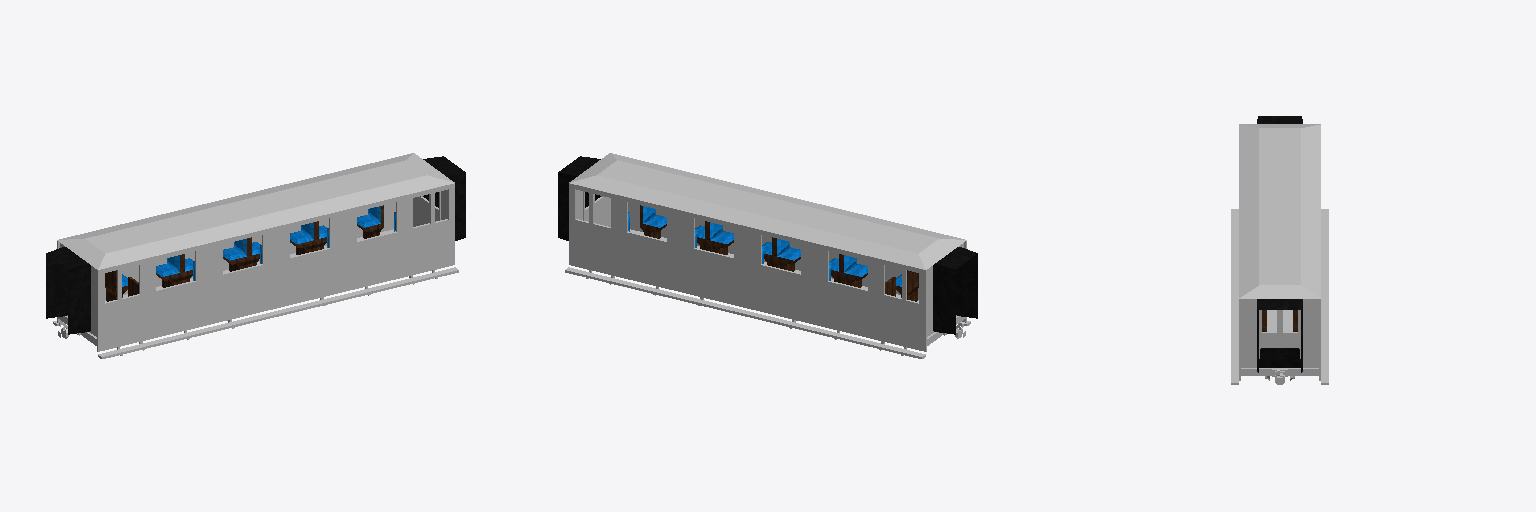
3 renders of one model, left to right at view 1: azimuth 30°, elevation 25°; view 2: azimuth 150°, elevation 25°; view 3: azimuth 270°, elevation 25°, orthographic.
Parts seen in each view (by area): view 1: SHELL_WOOD_ext, SHELL_WOOD_roof, corridor_front, FRAME, SHELL_WOOD_INTERIOR, corridor_rear, DOOR_8_EXTERNAL.001, INTERIOR_bench.003, INTERIOR_bench.005, INTERIOR_bench.001, DOOR_6_EXTERNAL.001, INTERIOR_bench.007; view 2: SHELL_WOOD_ext, SHELL_WOOD_roof, corridor_front, FRAME, SHELL_WOOD_INTERIOR, corridor_rear, DOOR_7_EXTERNAL.001, INTERIOR_bench.002, INTERIOR_bench.009, INTERIOR_bench, DOOR_5_EXTERNAL.001, INTERIOR_bench.006; view 3: SHELL_WOOD_roof, SHELL_WOOD_ext, COUPLED_REAR_4, corridor_rear.
Boxes of the visible parts, x1=… form: SHELL_WOOD_ext: x1=53, y1=183, x2=458, y2=358; SHELL_WOOD_roof: x1=57, y1=153, x2=454, y2=269; corridor_front: x1=46, y1=247, x2=90, y2=334; FRAME: x1=57, y1=258, x2=454, y2=351; SHELL_WOOD_INTERIOR: x1=105, y1=189, x2=448, y2=303; corridor_rear: x1=423, y1=156, x2=465, y2=240; DOOR_8_EXTERNAL.001: x1=120, y1=262, x2=142, y2=329; INTERIOR_bench.003: x1=223, y1=237, x2=260, y2=271; INTERIOR_bench.005: x1=290, y1=221, x2=326, y2=254; INTERIOR_bench.001: x1=156, y1=254, x2=192, y2=287; DOOR_6_EXTERNAL.001: x1=411, y1=191, x2=432, y2=258; INTERIOR_bench.007: x1=357, y1=205, x2=383, y2=238; SHELL_WOOD_ext: x1=565, y1=183, x2=970, y2=358; SHELL_WOOD_roof: x1=569, y1=153, x2=966, y2=269; corridor_front: x1=933, y1=247, x2=977, y2=334; FRAME: x1=569, y1=258, x2=966, y2=351; SHELL_WOOD_INTERIOR: x1=575, y1=189, x2=918, y2=303; corridor_rear: x1=558, y1=156, x2=600, y2=240; DOOR_7_EXTERNAL.001: x1=881, y1=262, x2=903, y2=329; INTERIOR_bench.002: x1=763, y1=237, x2=800, y2=271; INTERIOR_bench.009: x1=697, y1=221, x2=733, y2=254; INTERIOR_bench: x1=831, y1=254, x2=867, y2=287; DOOR_5_EXTERNAL.001: x1=591, y1=191, x2=612, y2=258; INTERIOR_bench.006: x1=640, y1=205, x2=666, y2=238; SHELL_WOOD_roof: x1=1239, y1=124, x2=1320, y2=298; SHELL_WOOD_ext: x1=1231, y1=209, x2=1328, y2=384; COUPLED_REAR_4: x1=1259, y1=348, x2=1300, y2=367; corridor_rear: x1=1257, y1=299, x2=1302, y2=372.
Size of the model in its own units: 11.12 by 2.62 by 2.38.
Materials: 6 (2 with a texture image).